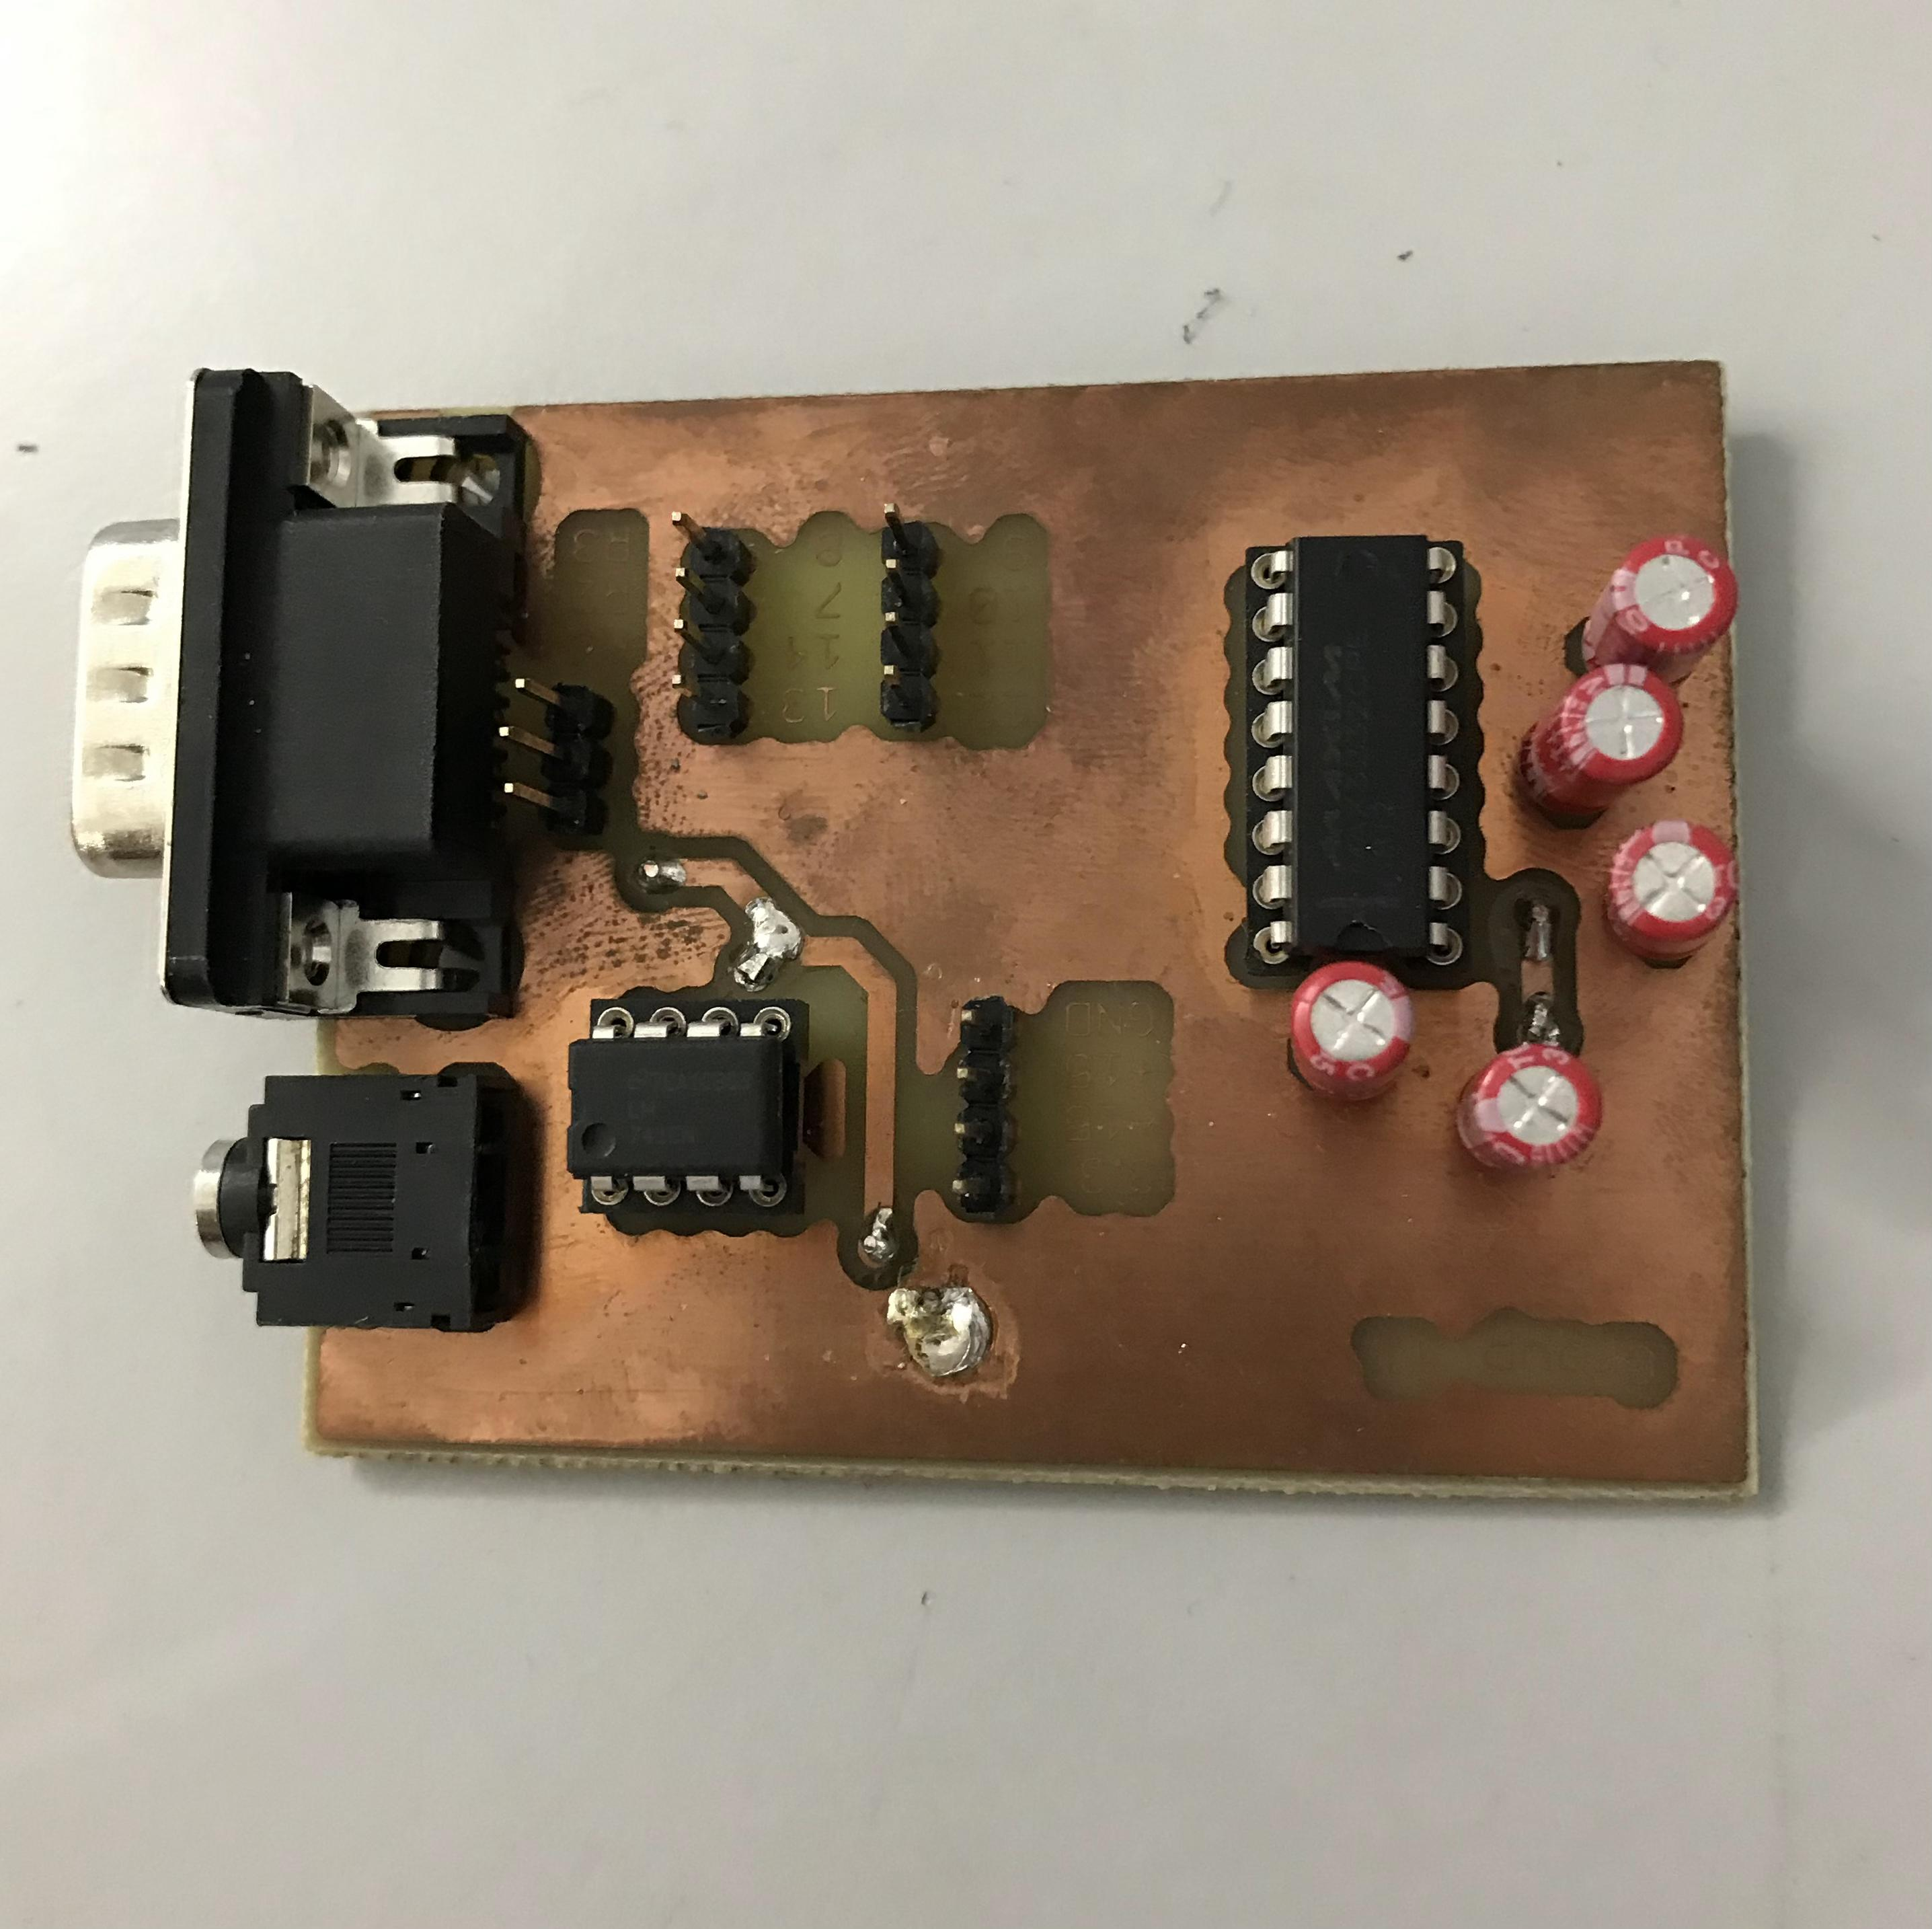Capacitor: (1515, 657, 1688, 821), (1582, 528, 1743, 698), (1445, 1039, 1607, 1185), (1280, 956, 1422, 1113), (1595, 814, 1745, 961)
